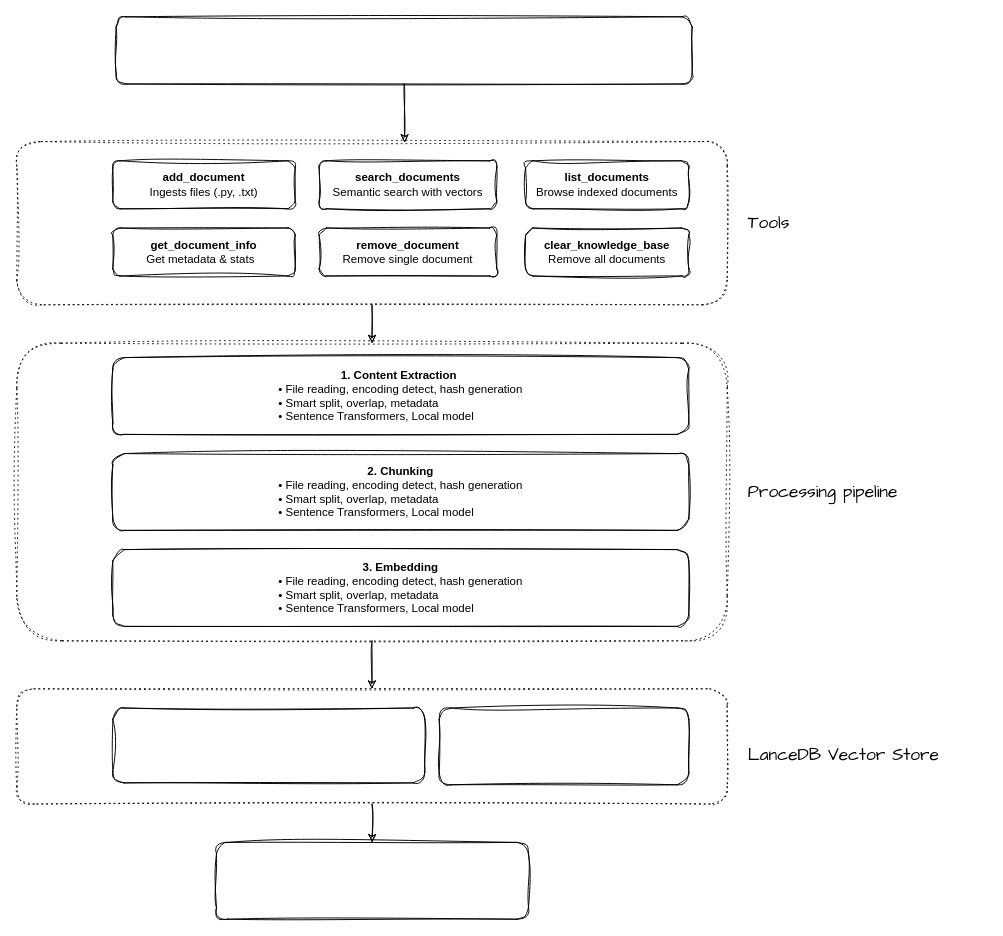
Some shapes in this 1003 by 936 pixel diagram are drawn without their labels. Here are the shapes that lost their labels. From the top down, the centre of each, then its label:
At point 403,50: "Your LLM Client (Kiro, Cursor ...)".
At point 268,745: "Documents Table - Metadata - file paths - timestamps - chunk counts".
At point 563,746: "Chunks Table - Text content - 384-dim vectors - doc refs".
At point 372,880: "Local Storage (100% Offline) - knowledge_base.db - Embedding model cache".
